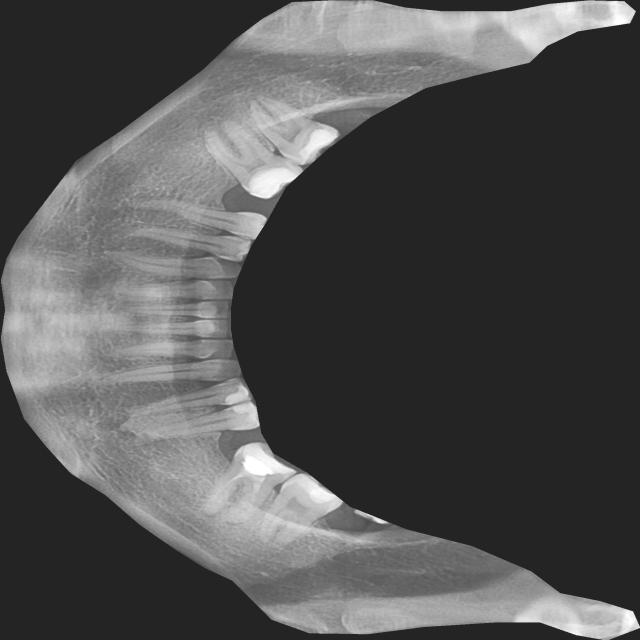mandibula: (0, 0, 640, 640)
